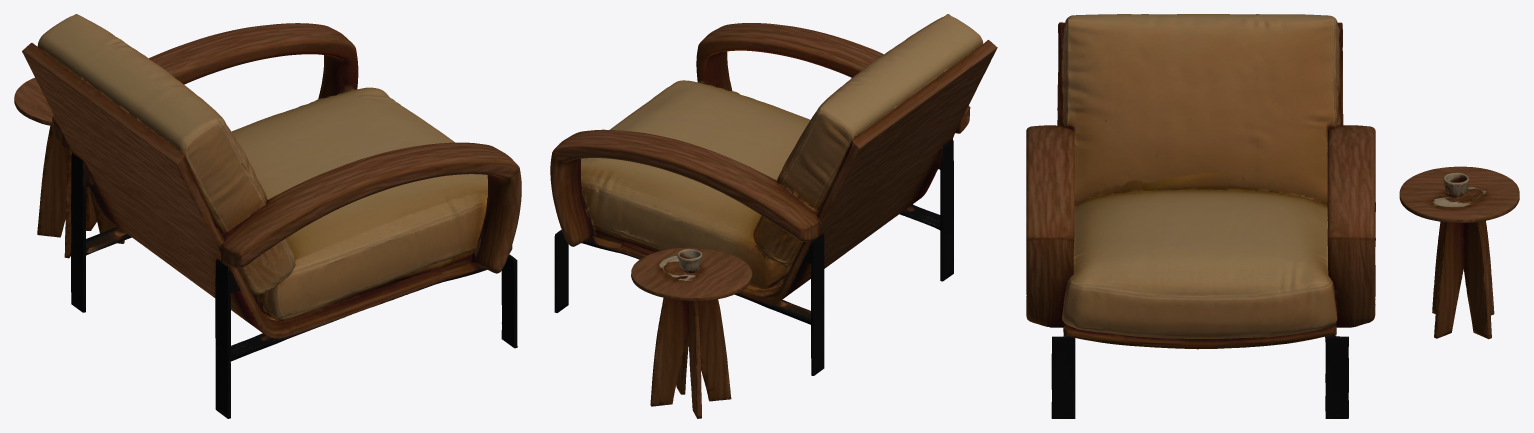
Rendered from yenıglb.glb.
The picture shows the model from 3 angles, left to right: view 1: azimuth 30°, elevation 25°; view 2: azimuth 150°, elevation 25°; view 3: azimuth 270°, elevation 25°; orthographic projection. The views are drawn at different scales.
Parts seen in each view (by area): view 1: tripo_node_3bbf26c7-796a-4281-a5b9-60214a05d839; view 2: tripo_node_3bbf26c7-796a-4281-a5b9-60214a05d839; view 3: tripo_node_3bbf26c7-796a-4281-a5b9-60214a05d839.
Part boxes in pixels (<box>): tripo_node_3bbf26c7-796a-4281-a5b9-60214a05d839: <box>14,14,521,418</box>; tripo_node_3bbf26c7-796a-4281-a5b9-60214a05d839: <box>550,14,997,418</box>; tripo_node_3bbf26c7-796a-4281-a5b9-60214a05d839: <box>1026,14,1519,418</box>.
Bounding box in the file's own units: 0.7685 × 0.6092 × 1.
Materials: 1 (1 with a texture image).
